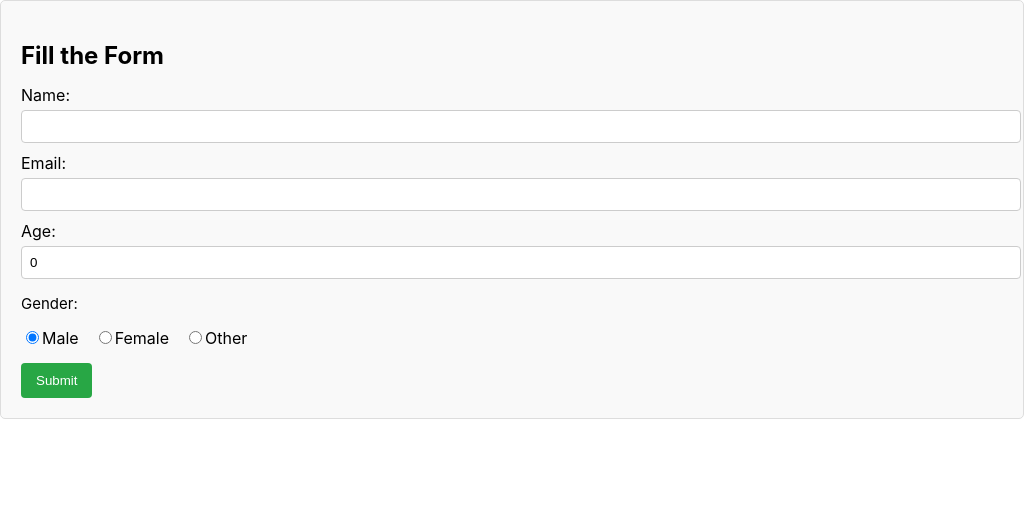
it: FormComponent › Validates form inputs and dispaly errors
Click the button "Submit" at (57, 380), box [21,363,92,398]
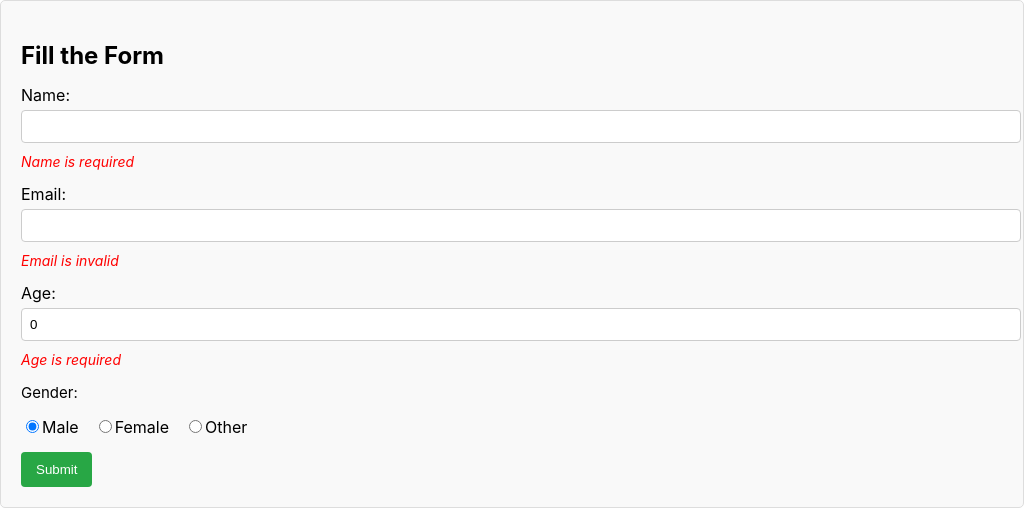
Result: the text "Name is required" is shown at [21,153,134,170]
Result: the text "Email is invalid" is shown at [21,252,119,269]
Result: the text "Age is required" is shown at [21,351,121,368]
